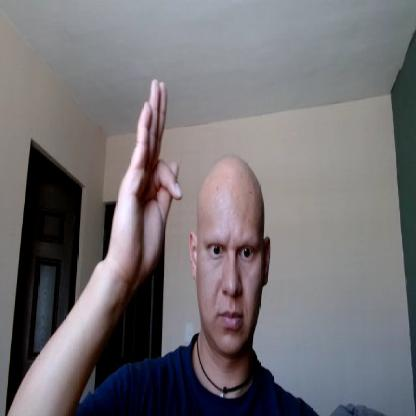F: (109, 77, 183, 293)
